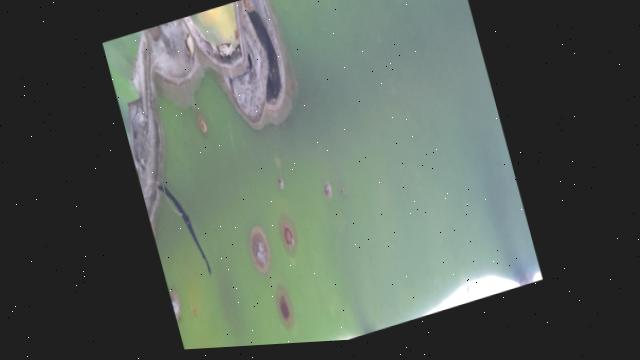stemcanker: (249, 223, 274, 275), (275, 284, 296, 331), (277, 218, 299, 257), (193, 109, 212, 139), (321, 177, 339, 203), (271, 172, 289, 195)
